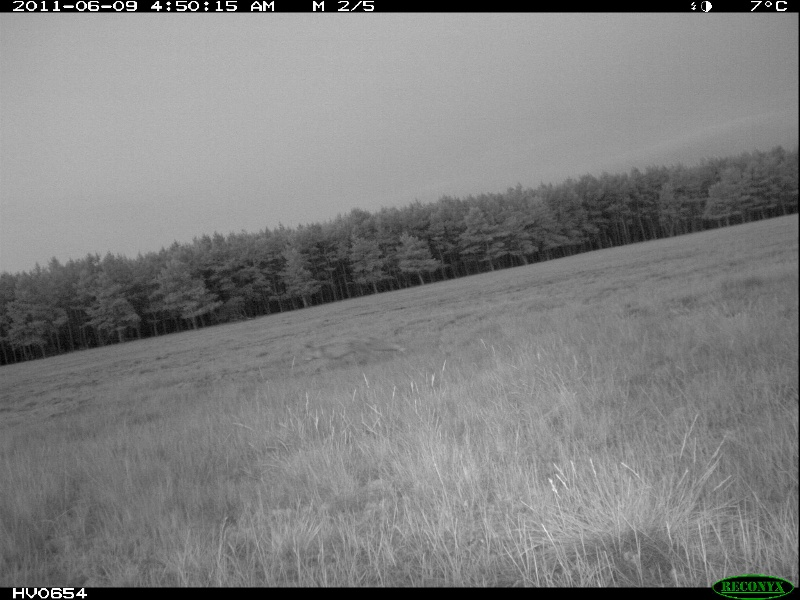fox: (294, 325, 416, 365)
